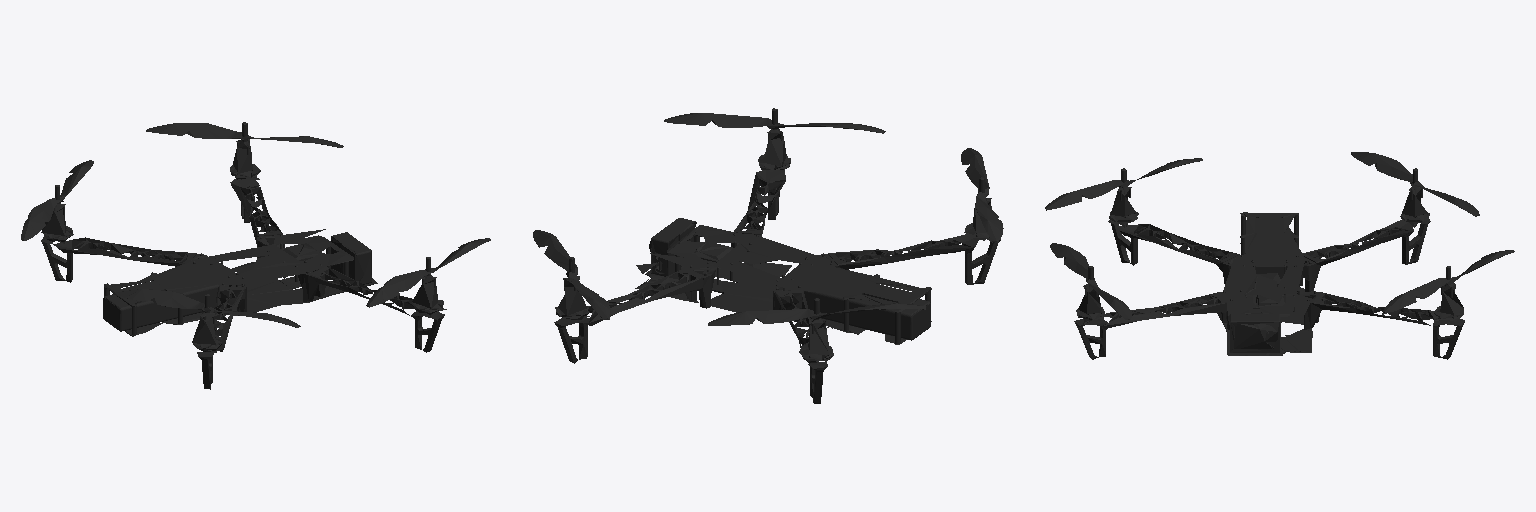
robot.urdf — drone:
<robot name="drone">
    <link name="base_link">
        <visual>
            <origin rpy="1.57 0 -1.57" xyz="0.15 0 0.35"/>
            <geometry>
                <mesh filename="package://visiondrone/rviz/drone.stl" scale="0.001 0.001 0.001"/>
            </geometry>
            <material name="blue">
                <color rgba=".2 .2 .2 1"/>
            </material>
        </visual>
    </link>
</robot>

--- What the picture shows (computed from the rendered views, not written in the file) ---
3 views of the same robot in one strip: view 1: azimuth 30°, elevation 25°; view 2: azimuth 150°, elevation 25°; view 3: azimuth 270°, elevation 25° (orthographic).
Robot: drone — 1 links, 0 joints (none); root link base_link; default pose: every joint at zero.
Links seen in each view (by area): view 1: base_link; view 2: base_link; view 3: base_link.
Link boxes in pixels (x1,y1,x2,y2): base_link: (21,122,490,389); base_link: (533,108,1003,403); base_link: (1045,152,1514,359).
Bounding box of the posed robot: 0.4644 × 0.5504 × 0.12 m (x, y, z).
1 mesh visuals loaded from 1 distinct referenced files (1 binary STL).